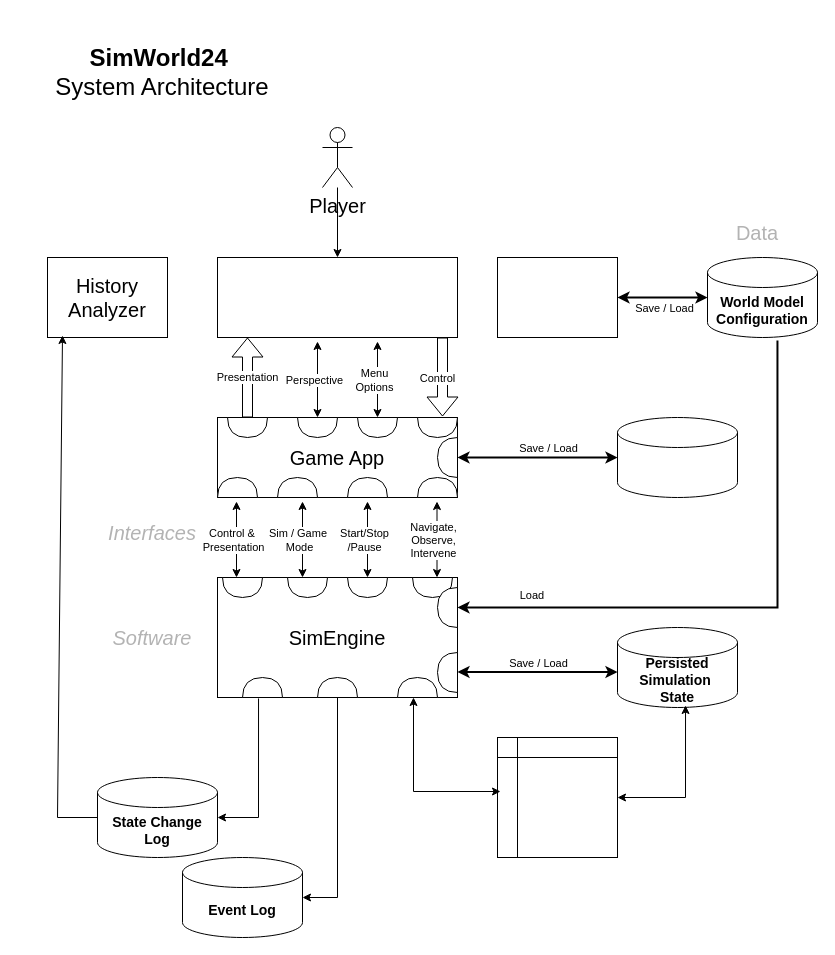
Some shapes in this 835 by 955 pixel diagram are drawn without their labels. Each missing label, with the centre of its shape:
"Internal Data Structures (Live State)" goes at [557,797].
"Saved Games" goes at [677,457].
"User Interface" goes at [337,297].
"Word Modeler (generation, edit)" goes at [557,297].
